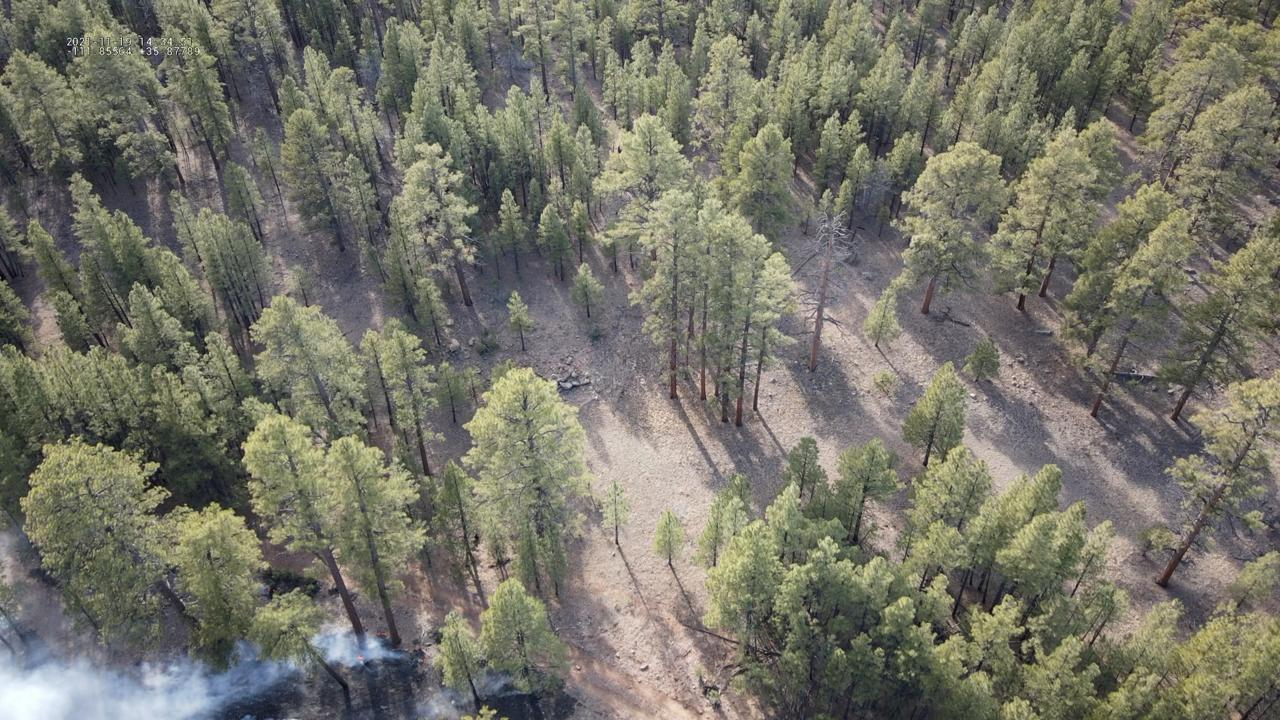fire: (356, 655, 364, 661)
smoke: (0, 628, 405, 720), (414, 676, 513, 720)
